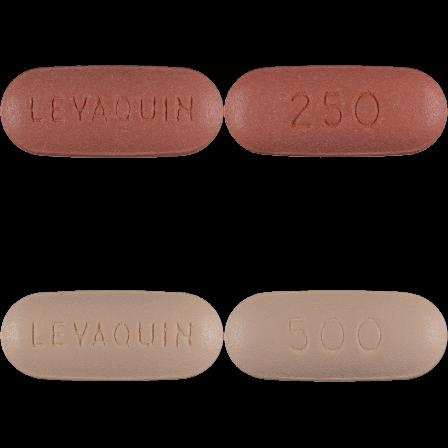50458-920: (0, 0, 224, 224)
